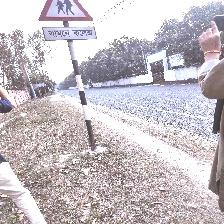College-in-front: (33, 0, 98, 70)
